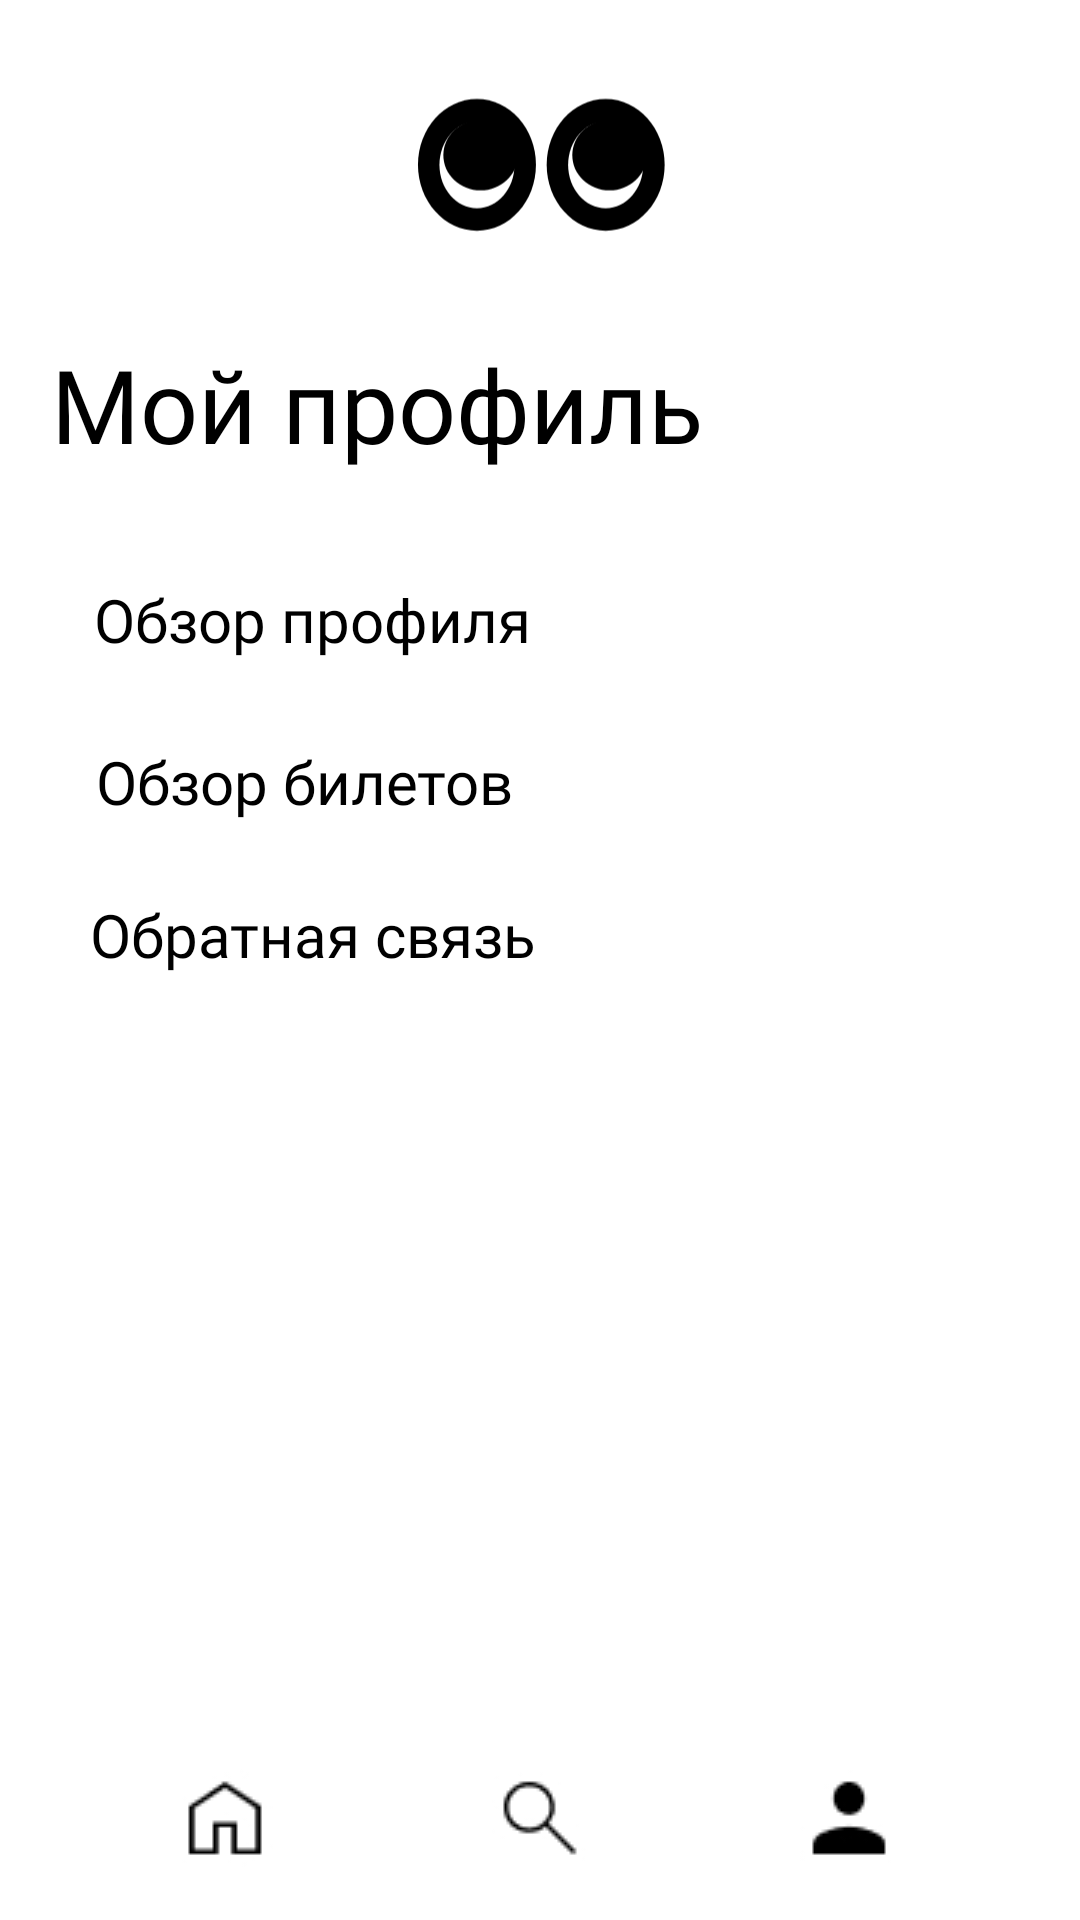

Icon click points for this 1080x1920 phone screenshot, format [x,y]:
profilebold: [849,1818]
search: [540,1818]
